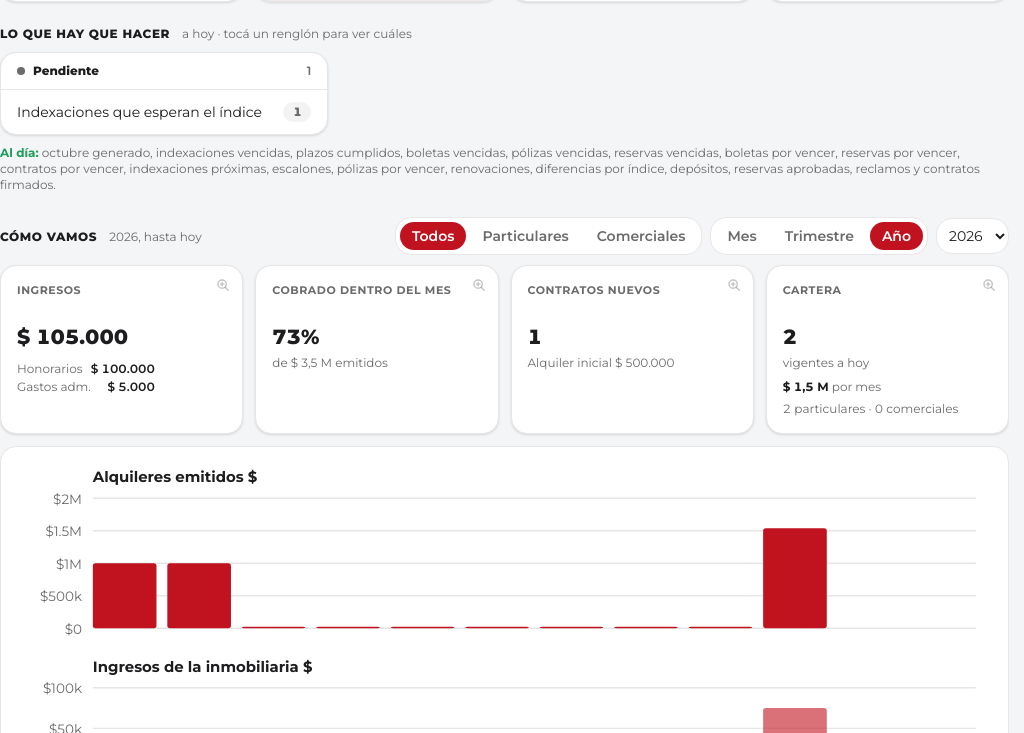
TableroAlquileres en tres bloques (17/10/2026) › Lo que hay que hacer › regla 139: lo que espera el índice va en su tarea, y la lista no lo pinta «vencida»
(page scrolled)
Expected: the button "Indexaciones que esperan el índice 1" is shown, [1,90,327,134]
What coordinates should you click on to do the following:
click the button with aria-label "Cartera: "
I would click on:
 (887, 349)
Its box is [767,266,1008,433].
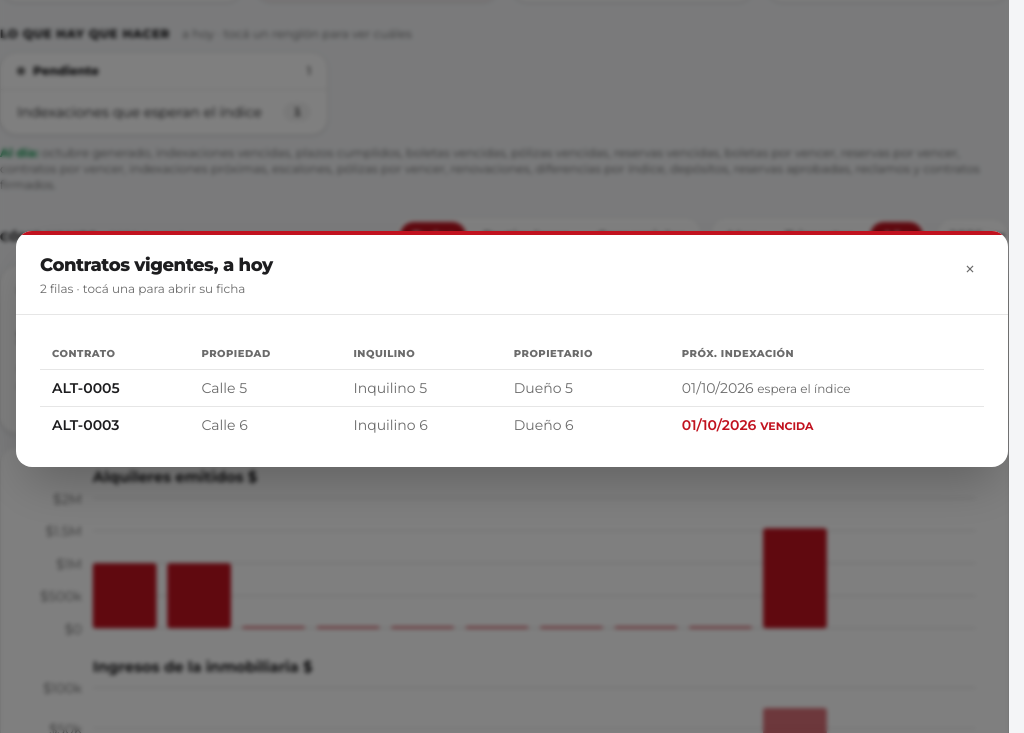
Now the row that starts with "ALT-0005" shows "01/10/2026 espera el índice", box [40,369,984,406]
Now the row "ALT-0003 Calle 6 Inquilino 6 Dueño 6 01/10/2026 vencida" is shown, box [40,406,984,443]
